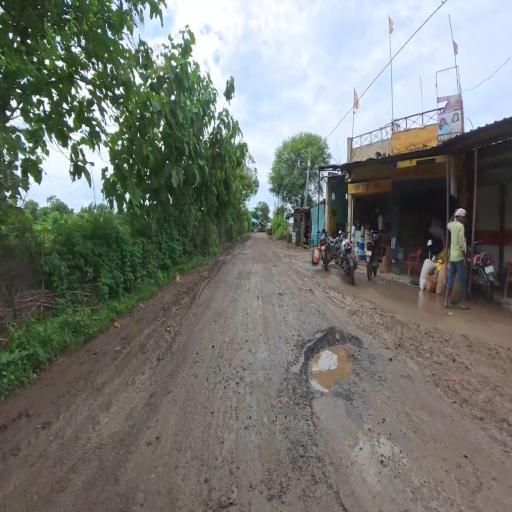pothole: (280, 306, 376, 444)
